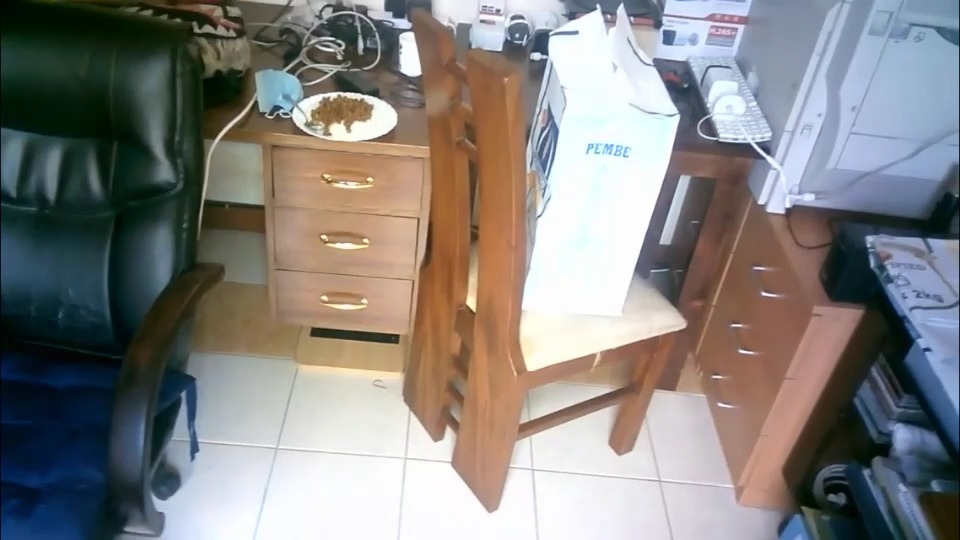wheat_flour_blue_label: (533, 17, 677, 322)
